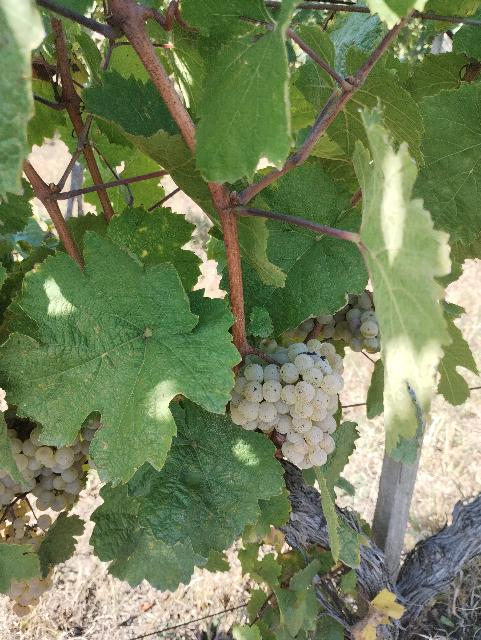grapes: (230, 339, 345, 470)
